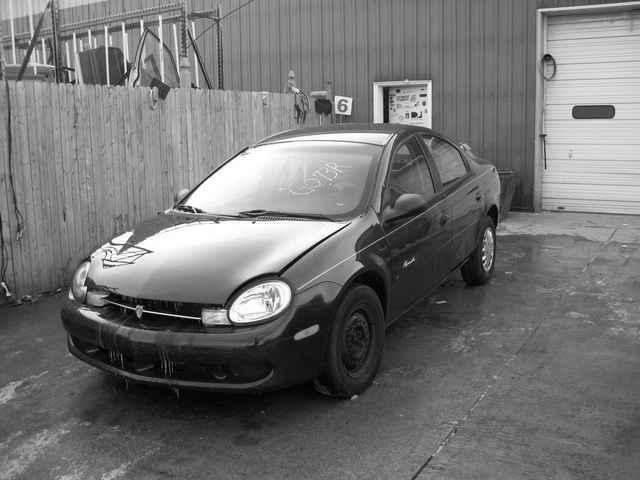car: (56, 120, 505, 404)
